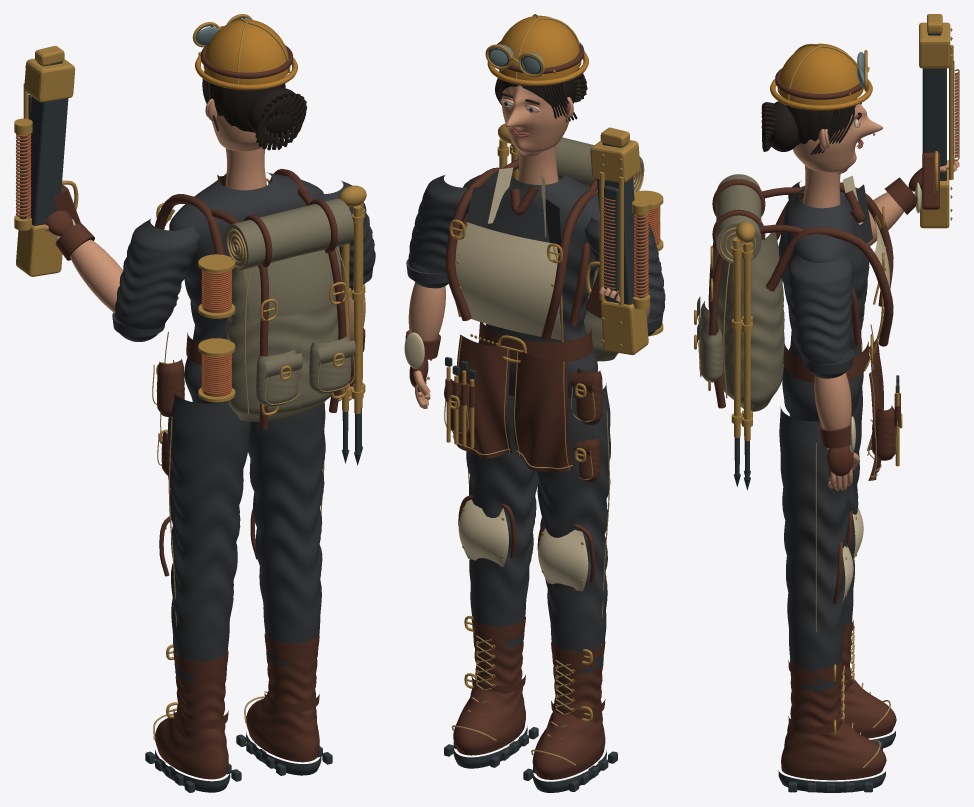
3 renders of one model, left to right at view 1: azimuth 30°, elevation 25°; view 2: azimuth 150°, elevation 25°; view 3: azimuth 270°, elevation 25°, orthographic. The views are drawn at different scales.
Visible parts, largest first — view 1: cape-canvas, leg-right-jacket, leg-left-jacket, leg-right-leather, leg-left-leather, arm-right-jacket, torso-jacket, cape-brass, arm-right-brass, head-ochre, head-hair, arm-right-steel (+15 smaller); view 2: torso-leather, leg-right-jacket, torso-cream, leg-left-jacket, torso-jacket, leg-left-leather, leg-right-leather, arm-right-brass, arm-left-jacket, head-ochre, arm-right-steel, head-skin (+20 smaller); view 3: leg-left-jacket, cape-canvas, leg-left-leather, torso-jacket, arm-left-jacket, torso-leather, head-ochre, cape-brass, head-hair, arm-right-brass, cape-leather, leg-right-leather (+17 smaller).
Part boxes in pixels (<box>): cape-canvas: <box>225,198,355,421</box>; leg-right-jacket: <box>168,394,251,682</box>; leg-left-jacket: <box>248,402,325,665</box>; leg-right-leather: <box>155,516,228,779</box>; leg-left-leather: <box>246,509,319,762</box>; arm-right-jacket: <box>112,218,200,341</box>; torso-jacket: <box>169,172,323,403</box>; cape-brass: <box>198,185,366,415</box>; arm-right-brass: <box>14,46,78,276</box>; head-ochre: <box>195,19,297,90</box>; head-hair: <box>202,70,307,150</box>; arm-right-steel: <box>19,61,68,225</box>; torso-leather: <box>444,167,602,481</box>; leg-right-jacket: <box>536,383,610,672</box>; torso-cream: <box>455,167,561,339</box>; leg-left-jacket: <box>466,395,538,648</box>; torso-jacket: <box>463,167,599,397</box>; leg-left-leather: <box>453,495,525,755</box>; leg-right-leather: <box>532,523,605,779</box>; arm-right-brass: <box>585,127,650,354</box>; arm-left-jacket: <box>406,175,467,288</box>; head-ochre: <box>487,15,588,85</box>; arm-right-steel: <box>597,143,644,346</box>; head-skin: <box>500,85,573,156</box>; leg-left-jacket: <box>779,407,851,690</box>; cape-canvas: <box>697,174,784,411</box>; leg-left-leather: <box>781,541,886,780</box>; torso-jacket: <box>778,184,873,421</box>; arm-left-jacket: <box>788,252,853,378</box>; torso-leather: <box>766,182,900,480</box>; head-ochre: <box>770,43,872,110</box>; cape-brass: <box>694,221,755,440</box>; head-hair: <box>761,98,861,154</box>; arm-right-brass: <box>919,14,953,228</box>; cape-leather: <box>708,179,861,408</box>; leg-right-leather: <box>840,510,896,738</box>.
Bounding box in the file's own units: 0.821 × 1.97 × 0.6609.
